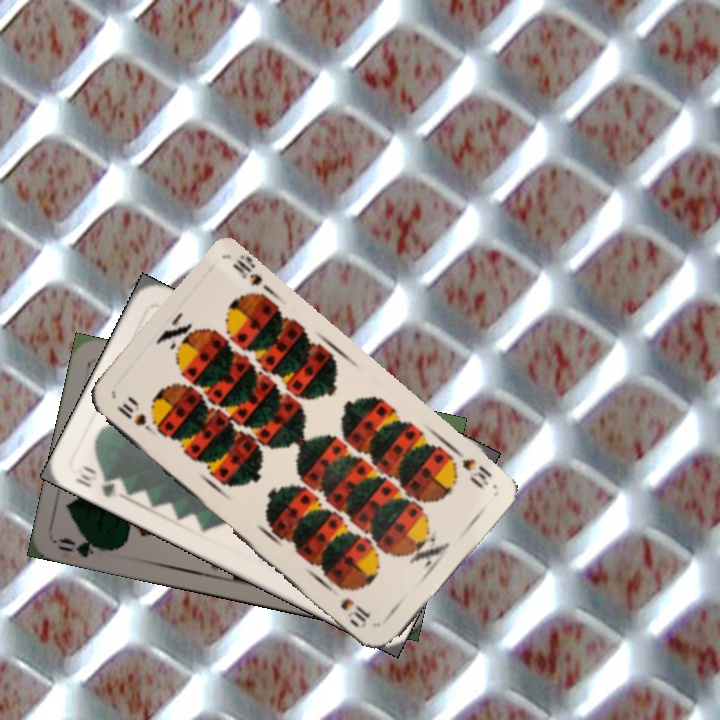G10: (71, 460, 118, 500)
GO: (55, 531, 114, 560)
S10: (449, 444, 495, 492), (112, 399, 161, 439)
